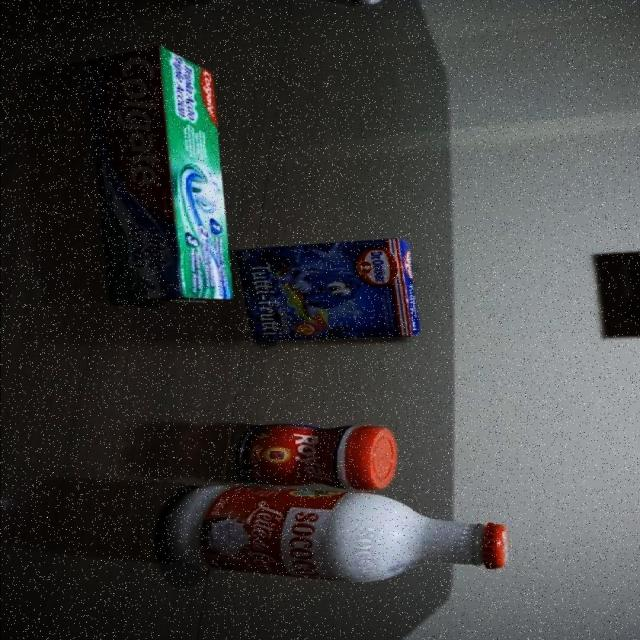CoconutMilk: (151, 489, 513, 582)
Gelatine: (245, 238, 420, 350)
Toothpaste: (85, 48, 224, 308)
Yeast: (228, 422, 394, 488)
